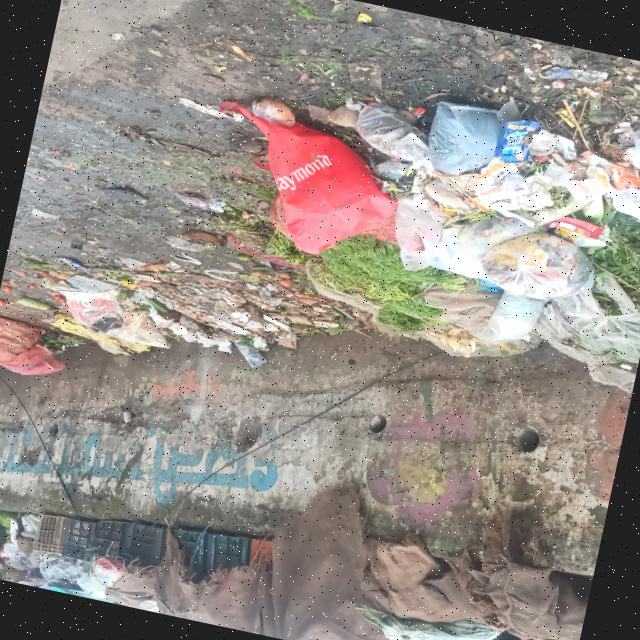garbage: (266, 16, 640, 399), (0, 195, 361, 376)
